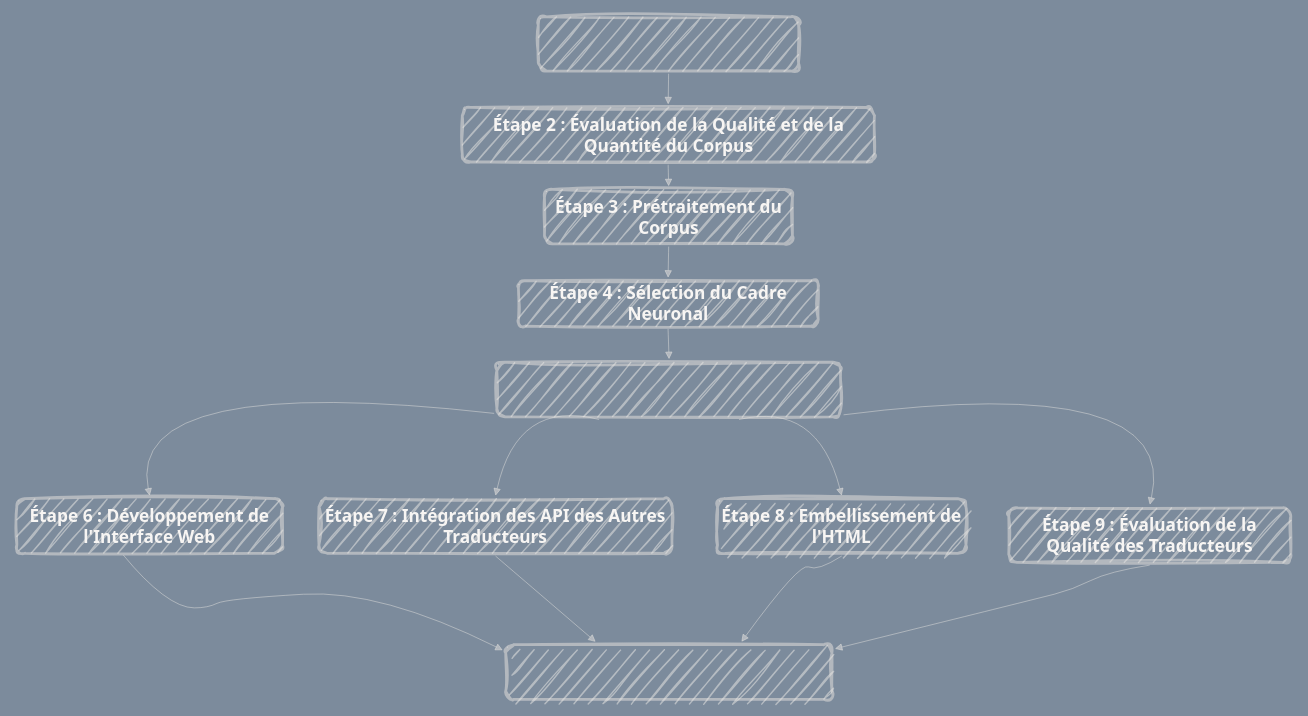
This 1308x716 diagram has some shape labels left out. The centre of each missing label's shape, as x and y in pixels:
Fin des Étapes de Développement Web et API: pixel 668 671
Étape 1 : Collecte de Corpus Parallèle: pixel 667 43
Étape 5 : Entraînement de l'Encoder et du Décoder: pixel 668 389
